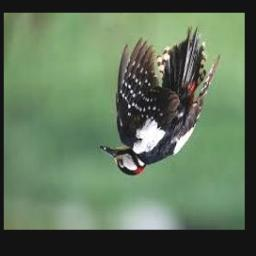Woodpecker: (99, 25, 219, 176)
